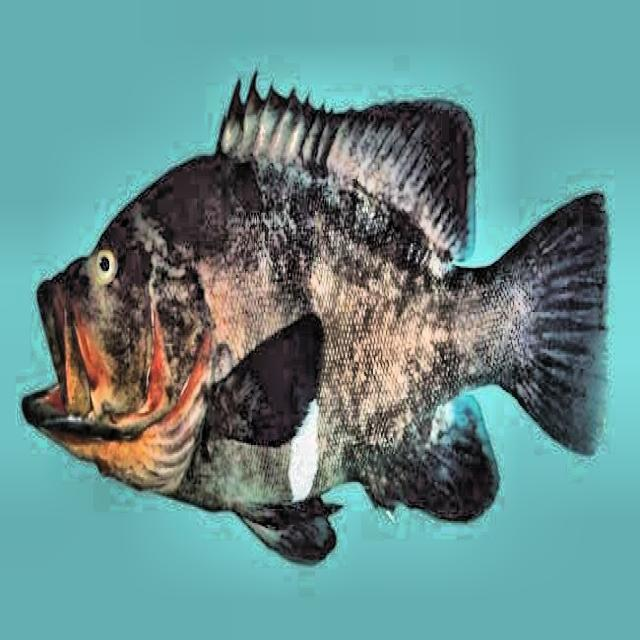fish: (18, 68, 610, 567)
